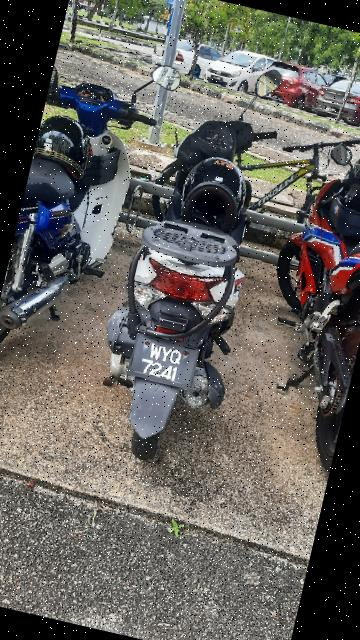License_Plate: (120, 328, 210, 399)
car: (72, 50, 330, 481)
